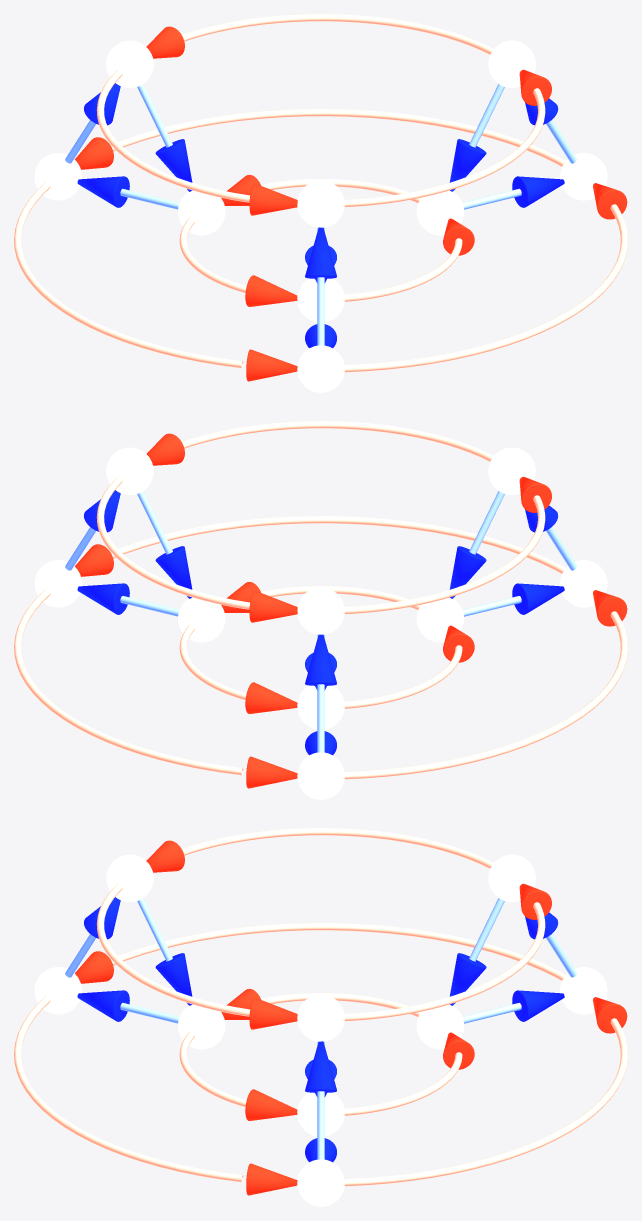
3 views of the same model, one above another, from view 1: azimuth 30°, elevation 25°; view 2: azimuth 150°, elevation 25°; view 3: azimuth 270°, elevation 25° (orthographic).
Parts seen in each view (by area): view 1: splines.0000, splines.0002, splines.0001, splines.0003, splines.0005, splines.0004, Spheres.0006, Spheres.0007, Spheres.0004, Spheres.0003, Spheres.0001, Spheres.0000 (+24 smaller); view 2: splines.0002, splines.0001, splines.0000, splines.0005, splines.0004, splines.0003, Spheres.0003, Spheres.0004, Spheres.0001, Spheres.0000, Spheres.0007, Spheres.0006 (+24 smaller); view 3: splines.0001, splines.0000, splines.0002, splines.0004, splines.0003, splines.0005, Spheres.0000, Spheres.0001, Spheres.0007, Spheres.0006, Spheres.0004, Spheres.0003 (+24 smaller).
Boxes of the visible parts, x1,y1,x2,y2 form: splines.0000: [110, 109, 565, 166]; splines.0002: [344, 204, 627, 372]; splines.0001: [14, 182, 243, 368]; splines.0003: [182, 14, 493, 54]; splines.0005: [344, 88, 545, 207]; splines.0004: [96, 69, 250, 202]; Spheres.0006: [297, 345, 344, 392]; Spheres.0007: [297, 180, 344, 227]; Spheres.0004: [106, 40, 153, 87]; Spheres.0003: [34, 153, 81, 200]; Spheres.0001: [488, 40, 535, 87]; Spheres.0000: [560, 153, 607, 200]; splines.0002: [110, 516, 565, 573]; splines.0001: [344, 611, 627, 779]; splines.0000: [14, 589, 243, 775]; splines.0005: [182, 421, 493, 461]; splines.0004: [344, 495, 545, 614]; splines.0003: [96, 476, 249, 609]; Spheres.0003: [297, 752, 344, 799]; Spheres.0004: [297, 587, 344, 634]; Spheres.0001: [106, 447, 153, 494]; Spheres.0000: [34, 560, 81, 607]; Spheres.0007: [488, 447, 535, 494]; Spheres.0006: [560, 560, 607, 607]; splines.0001: [110, 923, 565, 980]; splines.0000: [344, 1018, 627, 1186]; splines.0002: [14, 996, 243, 1182]; splines.0004: [182, 828, 493, 868]; splines.0003: [344, 902, 545, 1021]; splines.0005: [96, 883, 250, 1016]; Spheres.0000: [297, 1159, 344, 1206]; Spheres.0001: [297, 994, 344, 1041]; Spheres.0007: [106, 854, 153, 901]; Spheres.0006: [34, 967, 81, 1014]; Spheres.0004: [488, 854, 535, 901]; Spheres.0003: [560, 967, 607, 1014].
Bounding box in the file's own units: 1.72 × 0.5196 × 1.67.
